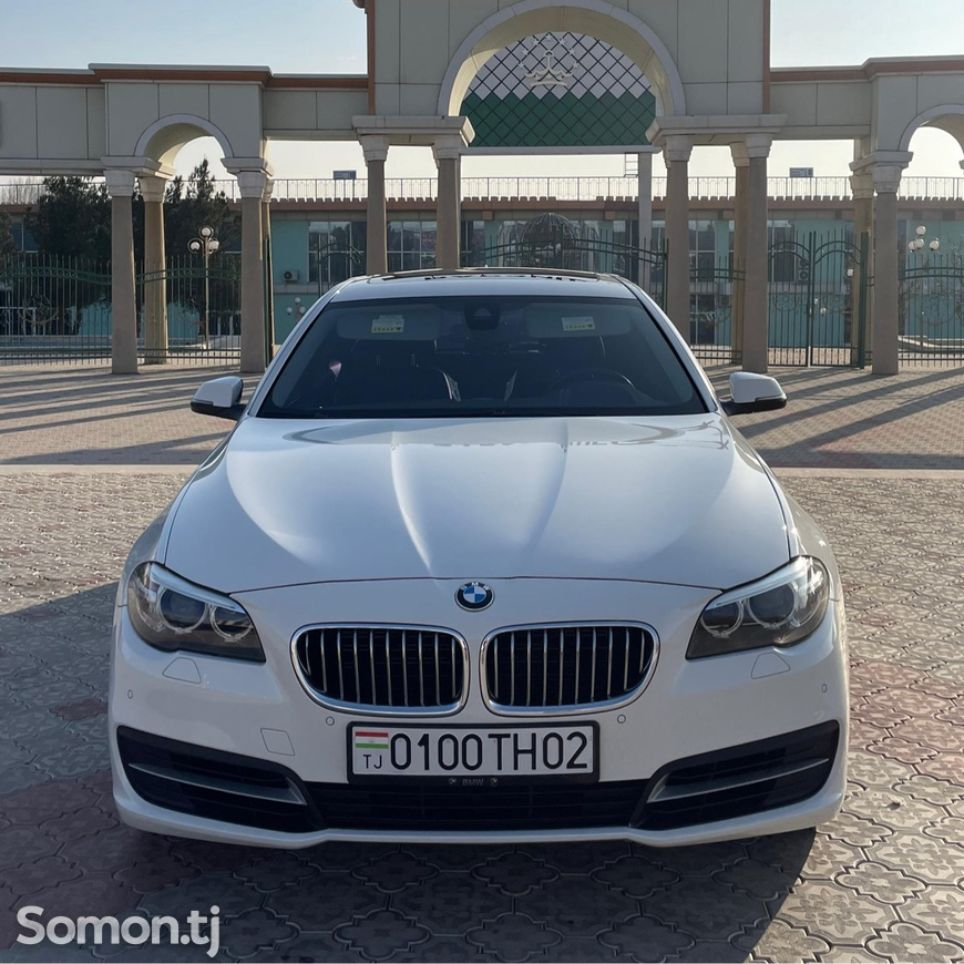license plate: (349, 728, 595, 779)
truck: (106, 263, 856, 871)
